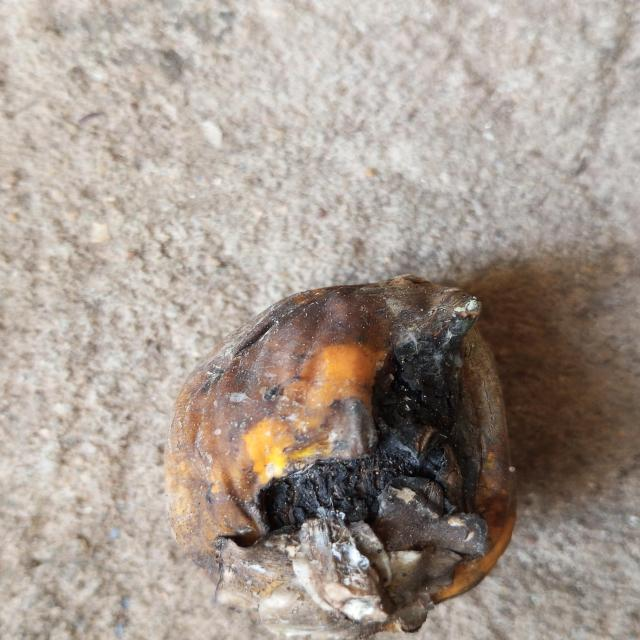damaged: (164, 276, 520, 634)
